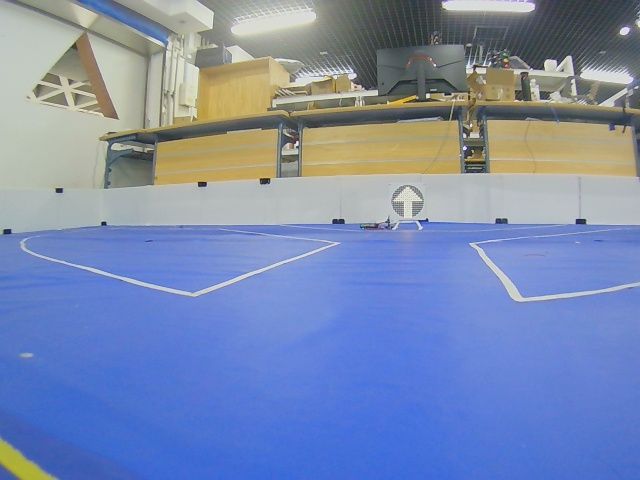straight_yellow: (391, 185, 424, 219)
